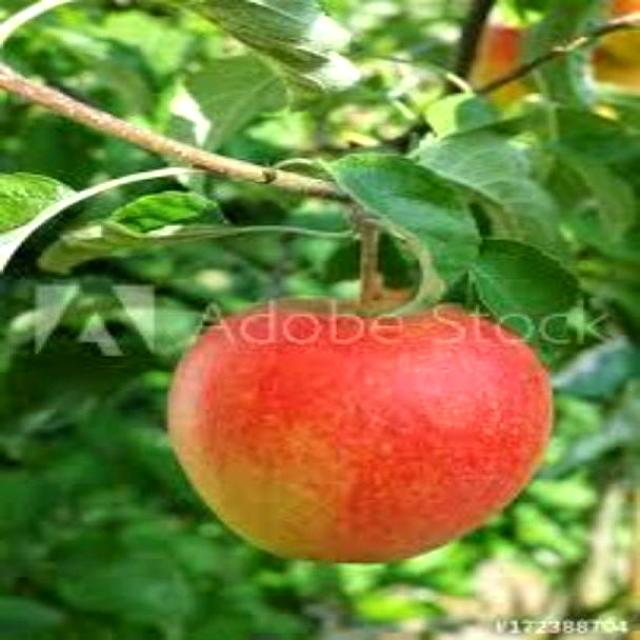HEALTHY: (166, 278, 588, 568)
